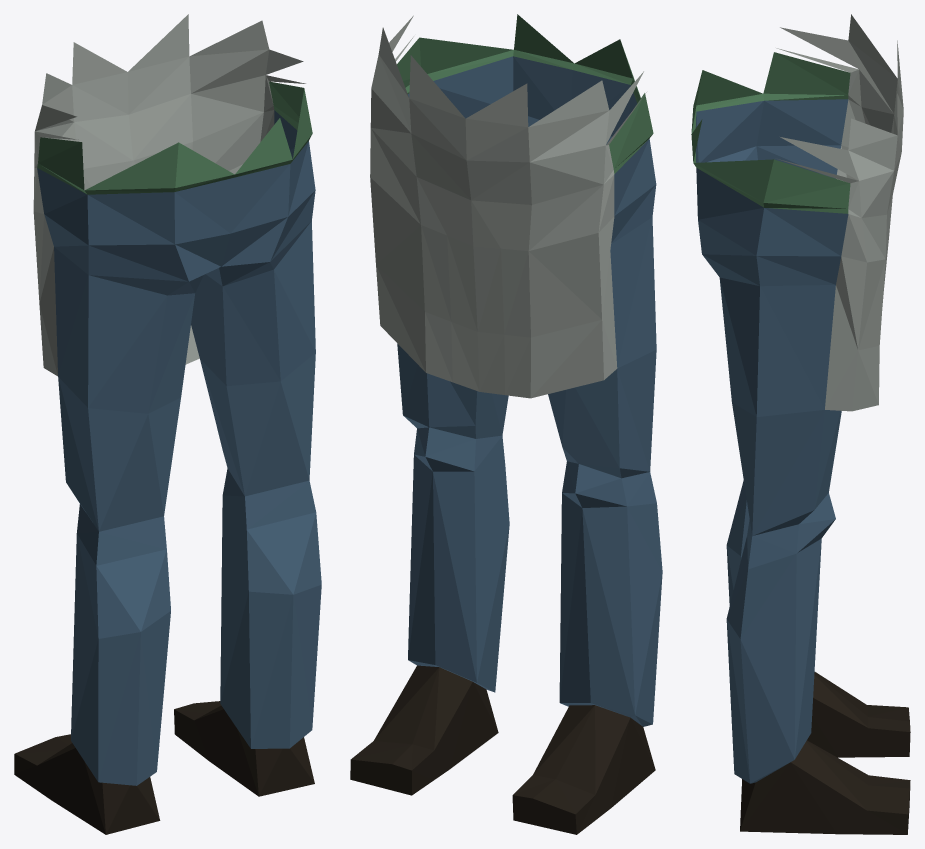
Rendered from ShopKeeper_01_Legs_0_01_A.obj.
3 renders of one model, left to right at view 1: azimuth 30°, elevation 25°; view 2: azimuth 150°, elevation 25°; view 3: azimuth 270°, elevation 25°, orthographic. The views are drawn at different scales.
Parts seen in each view (by area): view 1: ShopKeeper_01_Legs_0_01_A; view 2: ShopKeeper_01_Legs_0_01_A; view 3: ShopKeeper_01_Legs_0_01_A.
Boxes of the visible parts, x1,y1,x2,y2 form: ShopKeeper_01_Legs_0_01_A: (14, 14, 321, 834); ShopKeeper_01_Legs_0_01_A: (350, 14, 662, 834); ShopKeeper_01_Legs_0_01_A: (691, 14, 910, 834).
Size of the model in its own units: 0.3569 by 1.04 by 0.2882.
Materials: 1 (1 with a texture image).
